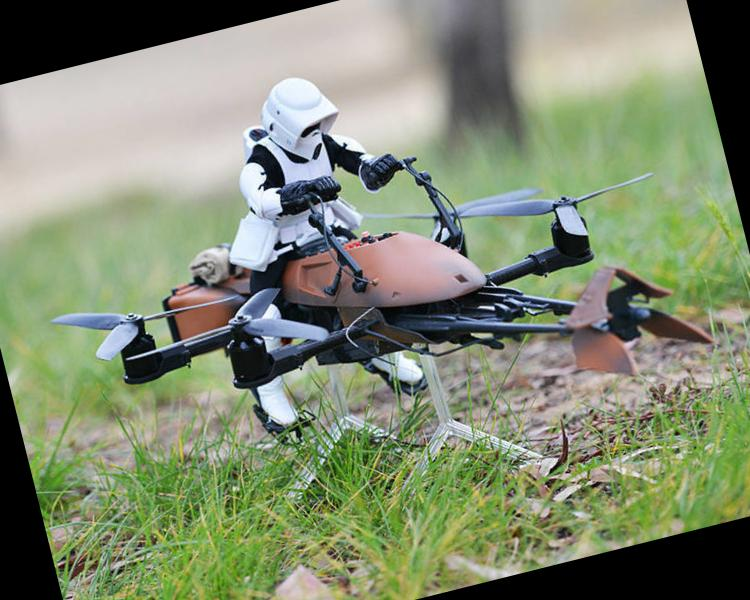drone: (27, 112, 669, 466)
